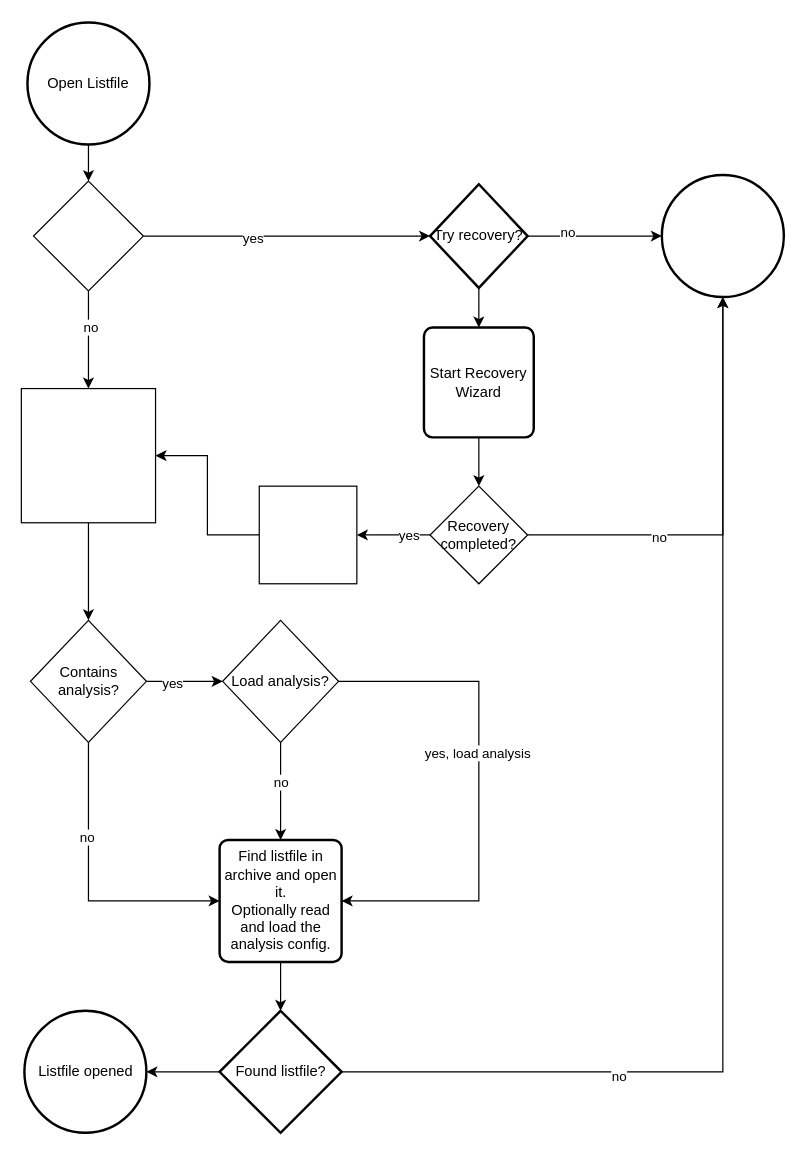
Image size: 806x1154. Some labels were removed from this diagram. Here are the shapes that lost their labels. From the top down, the centre of each, then its label:
pixel 87 235: Is corrupted?
pixel 722 235: Cancel Opening Listfile
pixel 88 455: - Open listfile - Check for analysis
pixel 307 534: Use recovered listfile as input
